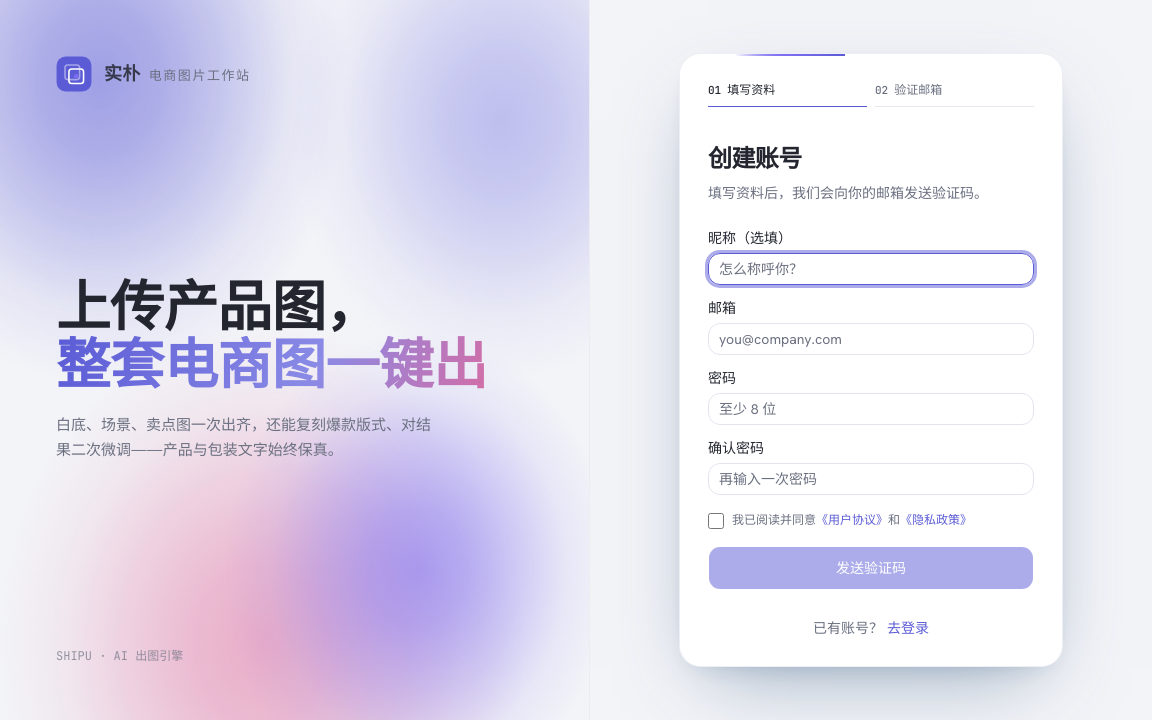
Test: RegisterPage › marks exactly the active registration step with aria-current
This screenshot has width=1152, height=720.
Type "新设计师" into the field labelled "昵称（选填）".
click(871, 269); type("新设计师")  # box [708,253,1034,285]
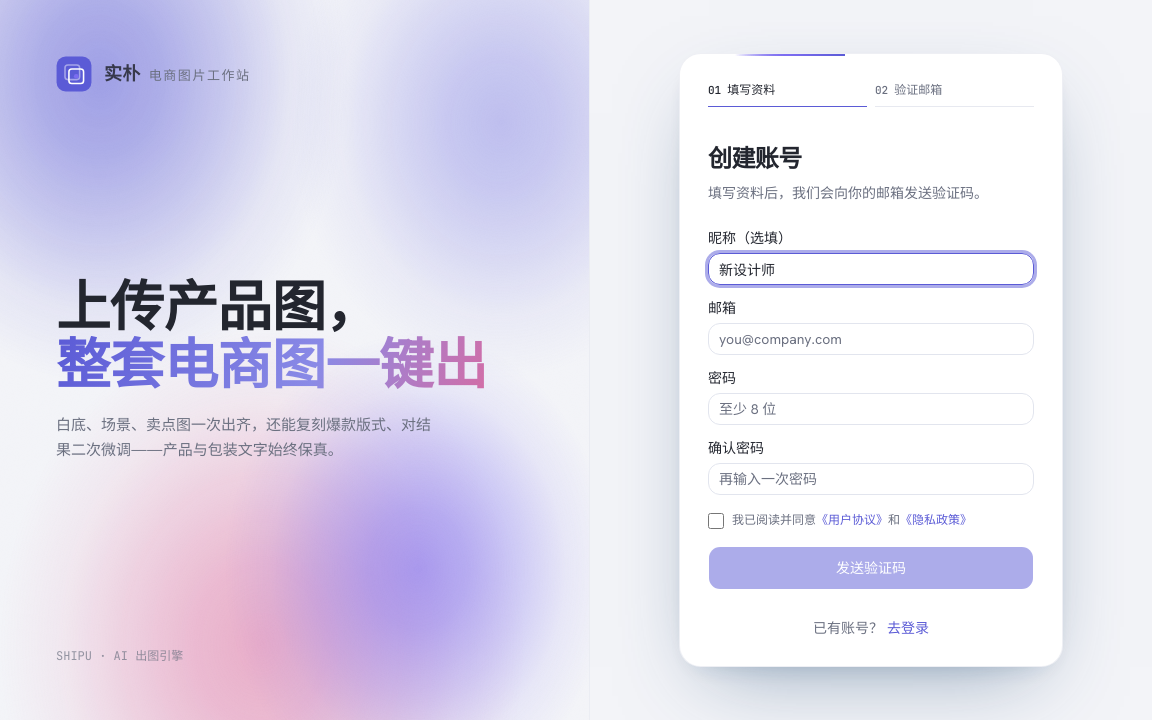
Type " New.User@Example.com " into the field labelled "邮箱".
click(871, 339); type(" New.User@Example.com ")  # box [708,323,1034,355]
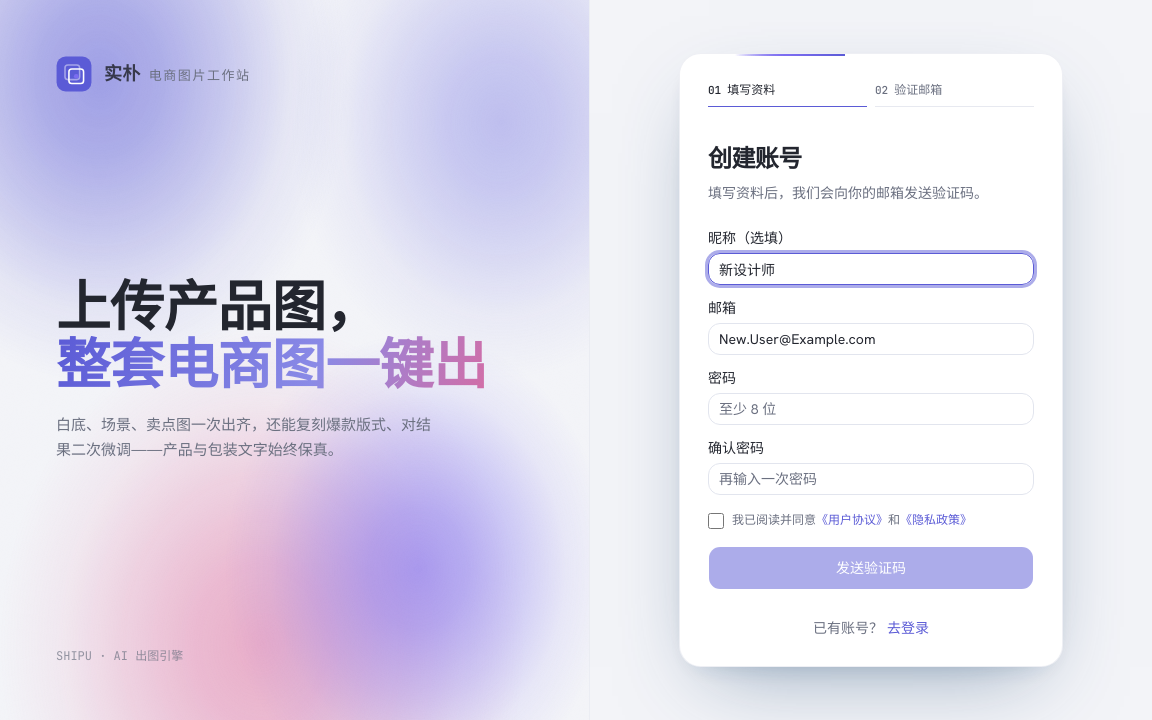
Type "very-secret-password" into the password field labelled "密码".
click(871, 409); type("very-secret-password")  # box [708,393,1034,425]
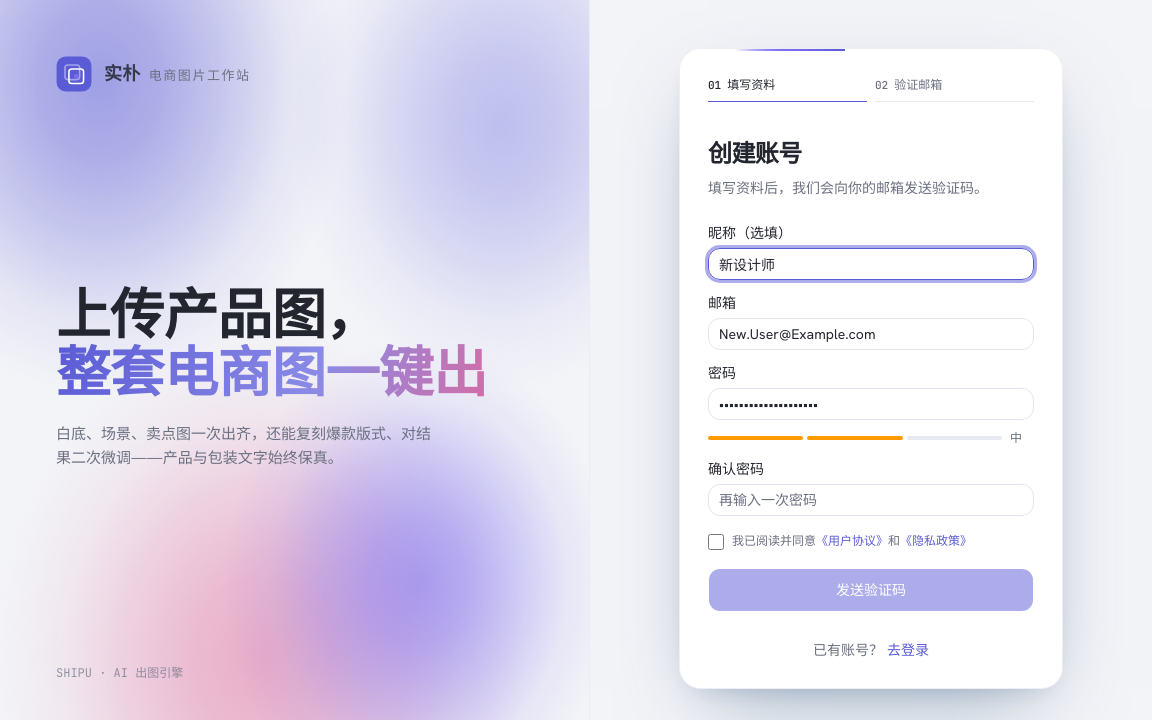
Type "very-secret-password" into the password field labelled "确认密码".
click(871, 500); type("very-secret-password")  # box [708,484,1034,516]
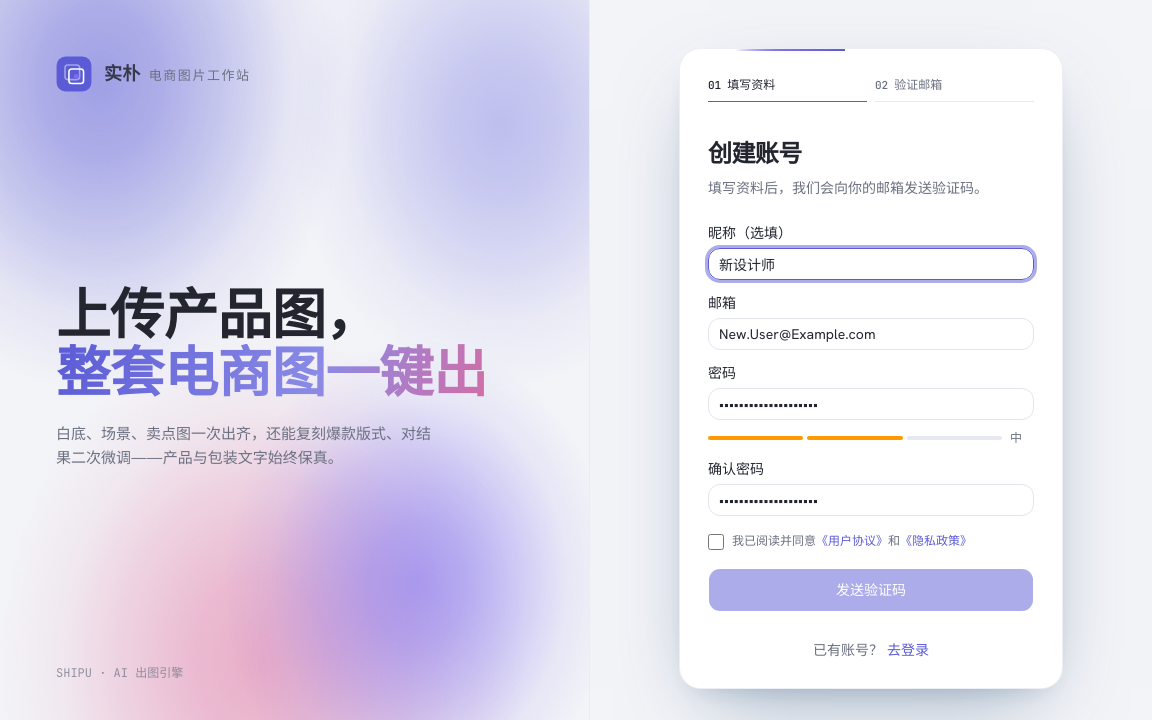
Click the checkbox.
click(716, 542)  # box [708,534,724,550]
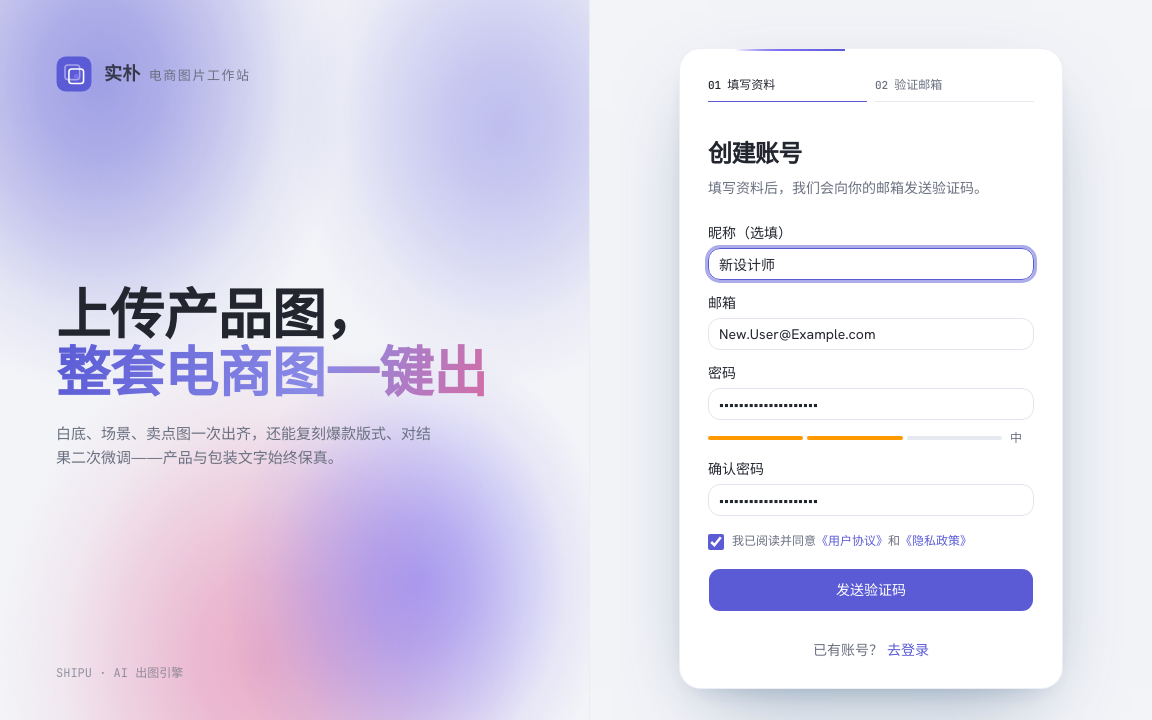
Click the button "发送验证码".
click(871, 590)  # box [708,568,1034,612]
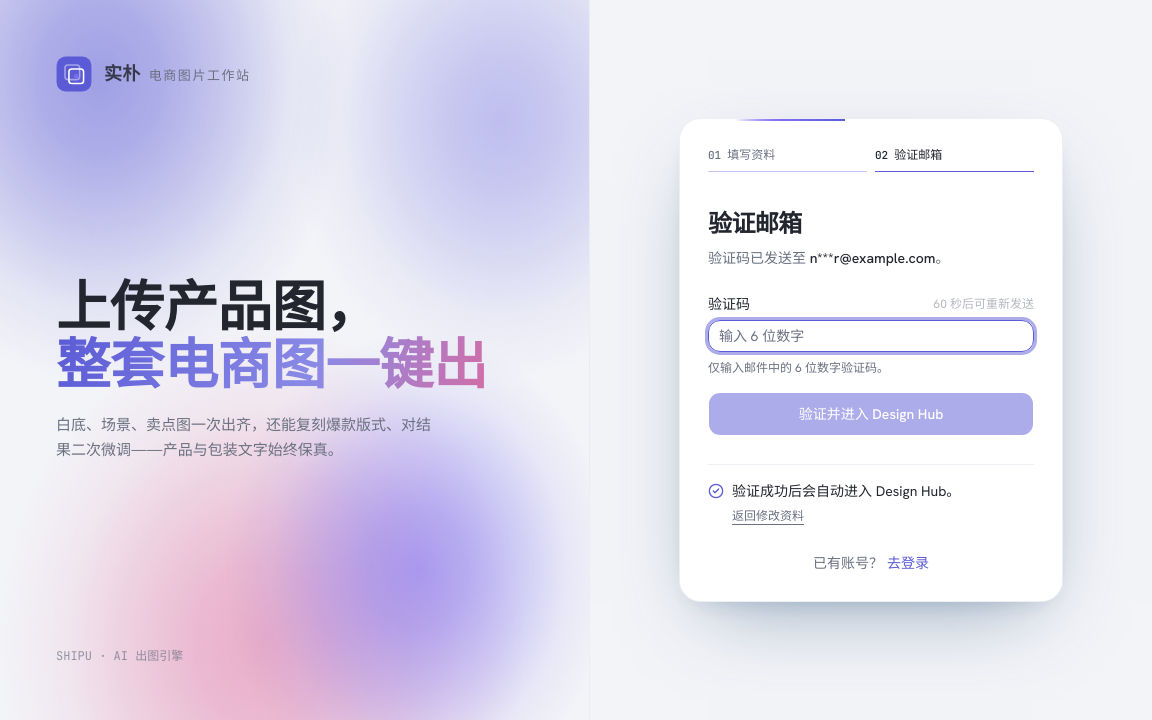
Check: the heading "验证邮箱" is shown, box [708,208,802,239]
